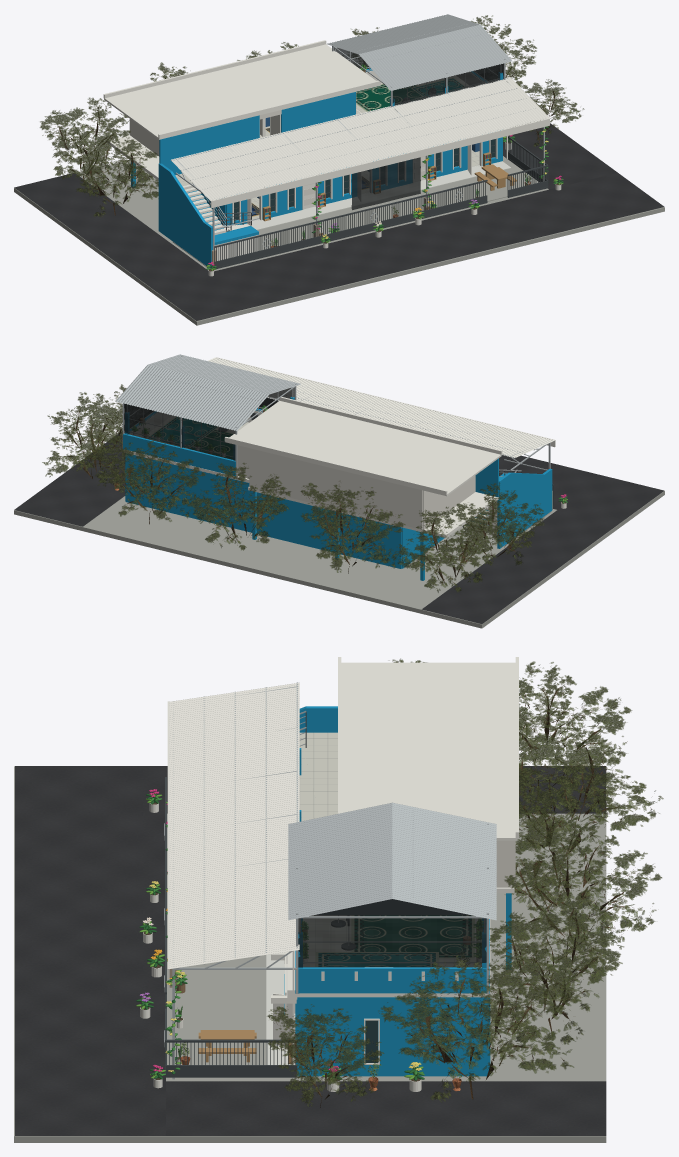
The model's file is lpq-building.glb.
3 views of the same model, one above another, from view 1: azimuth 30°, elevation 25°; view 2: azimuth 150°, elevation 25°; view 3: azimuth 270°, elevation 25° (orthographic). The views are drawn at different scales.
Visible parts, largest first — view 1: BUILDING Putih hangat.020, BUILDING Aspal bertekstur.011, BUILDING Beton halaman.020, BUILDING Cat biru fasad.020, BUILDING Baja galvanis.020, BUILDING Besi pagar.020, Jacaranda canopy CC0.021, Jacaranda canopy CC0.022, BUILDING Anyaman jaring.020, BUILDING Keramik terang.020, SHADE_REVEAL Anyaman jaring.020, Jacaranda canopy CC0.027 (+8 smaller); view 2: BUILDING Putih hangat.020, BUILDING Aspal bertekstur.011, BUILDING Cat biru fasad.020, BUILDING Beton halaman.020, BUILDING Baja galvanis.020, BUILDING Dinding interior putih.020, Jacaranda canopy CC0.023, Jacaranda canopy CC0.022, Jacaranda canopy CC0.025, Jacaranda canopy CC0.026, Jacaranda canopy CC0.024, SHADE_REVEAL Anyaman jaring.020 (+9 smaller); view 3: BUILDING Aspal bertekstur.011, BUILDING Putih hangat.020, BUILDING Beton halaman.020, BUILDING Baja galvanis.020, BUILDING Cat biru fasad.020, Jacaranda canopy CC0.026, SHADE_REVEAL Anyaman jaring.020, Jacaranda canopy CC0.024, Jacaranda canopy CC0.023, Jacaranda canopy CC0.025, Jacaranda canopy CC0.022, Jacaranda canopy CC0.027 (+15 smaller).
Part boxes in pixels (x1,y1,x2,y2): BUILDING Putih hangat.020: (103,40,561,276); BUILDING Aspal bertekstur.011: (14,123,664,320); BUILDING Beton halaman.020: (14,156,664,325); BUILDING Cat biru fasad.020: (131,68,503,268); BUILDING Baja galvanis.020: (171,14,545,250); BUILDING Besi pagar.020: (201,88,548,269); Jacaranda canopy CC0.021: (65,135,158,217); Jacaranda canopy CC0.022: (40,97,130,190); BUILDING Anyaman jaring.020: (351,157,420,210); BUILDING Keramik terang.020: (244,161,510,230); SHADE_REVEAL Anyaman jaring.020: (333,47,503,105); Jacaranda canopy CC0.027: (515,79,584,146); BUILDING Putih hangat.020: (124,357,566,537); BUILDING Aspal bertekstur.011: (14,398,663,623); BUILDING Cat biru fasad.020: (123,397,552,580); BUILDING Beton halaman.020: (14,490,664,628); BUILDING Baja galvanis.020: (115,354,553,524); BUILDING Dinding interior putih.020: (237,445,475,529); Jacaranda canopy CC0.023: (300,481,405,572); Jacaranda canopy CC0.022: (388,503,496,592); Jacaranda canopy CC0.025: (96,441,205,521); Jacaranda canopy CC0.026: (42,392,139,486); Jacaranda canopy CC0.024: (182,463,290,550); SHADE_REVEAL Anyaman jaring.020: (124,388,294,460); BUILDING Aspal bertekstur.011: (15,766,606,1135); BUILDING Putih hangat.020: (140,657,518,1091); BUILDING Beton halaman.020: (14,766,606,1142); BUILDING Baja galvanis.020: (164,682,496,1079); BUILDING Cat biru fasad.020: (284,706,511,1076); Jacaranda canopy CC0.026: (378,955,573,1102); SHADE_REVEAL Anyaman jaring.020: (298,915,486,967); Jacaranda canopy CC0.024: (504,816,661,955); Jacaranda canopy CC0.023: (515,727,663,887); Jacaranda canopy CC0.025: (489,897,625,1044); Jacaranda canopy CC0.022: (519,661,632,793); Jacaranda canopy CC0.027: (267,1004,384,1106).
Bounding box in the file's own units: 35.1 × 8.21 × 25.28.
Materials: 45 (13 with a texture image).
